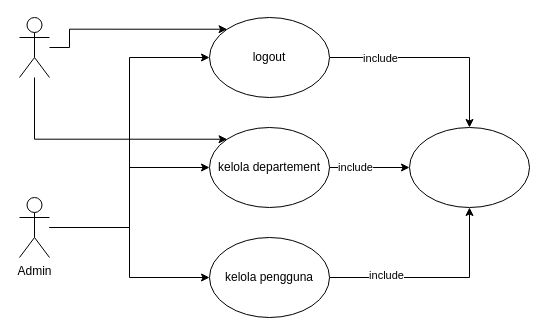
Image size: 547x335. Some labels were removed from this diagram. Each missing label, with the centre of its shape:
"login" goes at point 469,167.
"User" goes at point 34,47.
